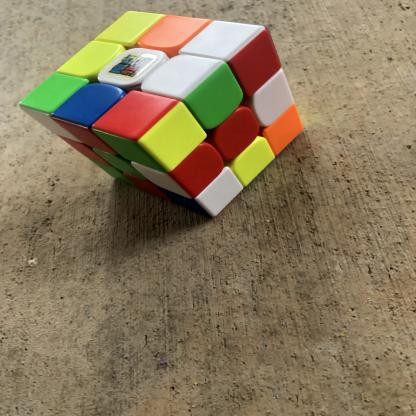UnsolvedCube: (19, 7, 324, 219)
